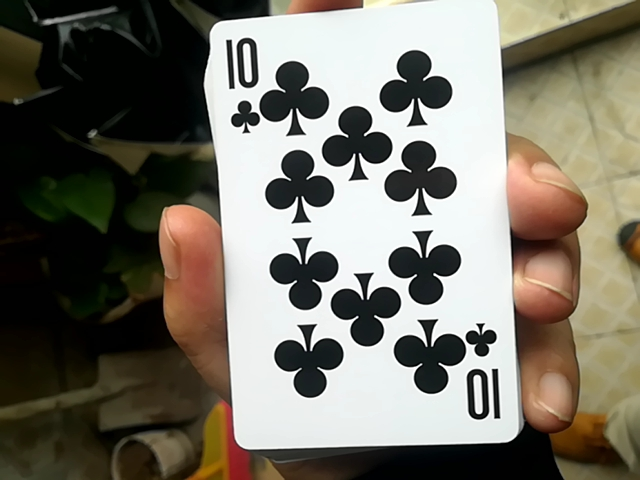mh 10: (203, 0, 518, 444)
